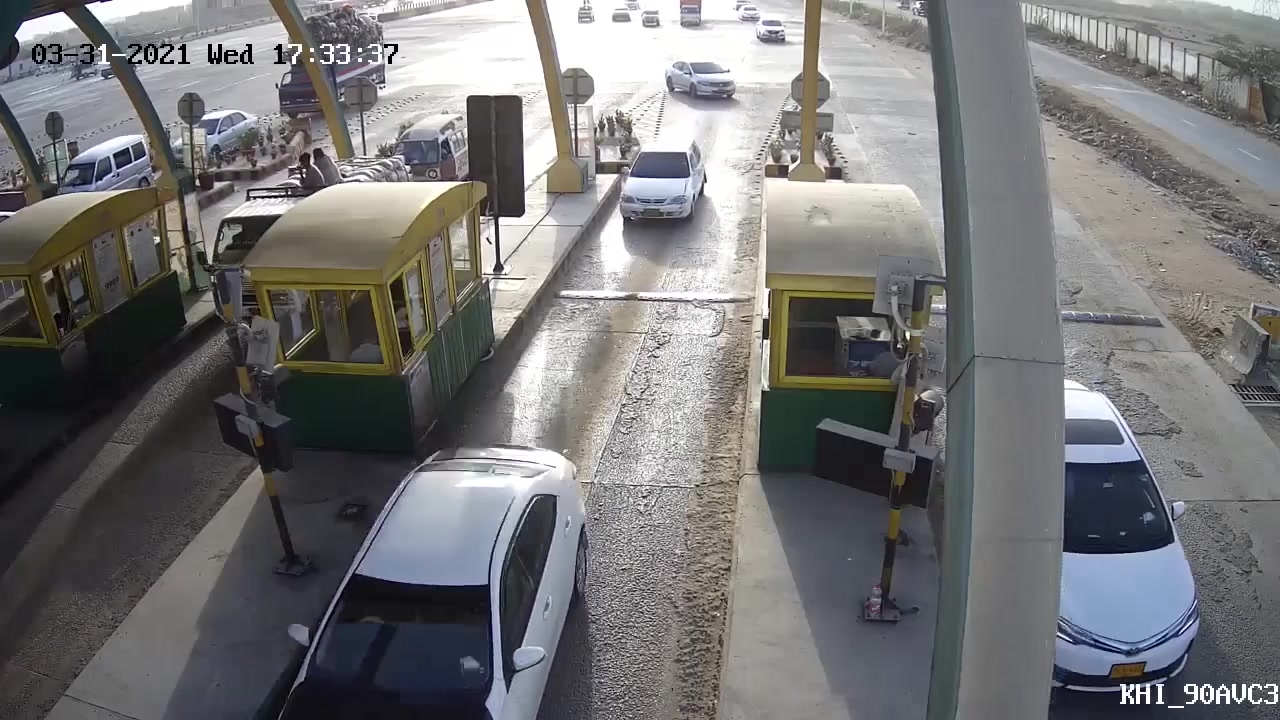F1: (605, 132, 723, 246)
